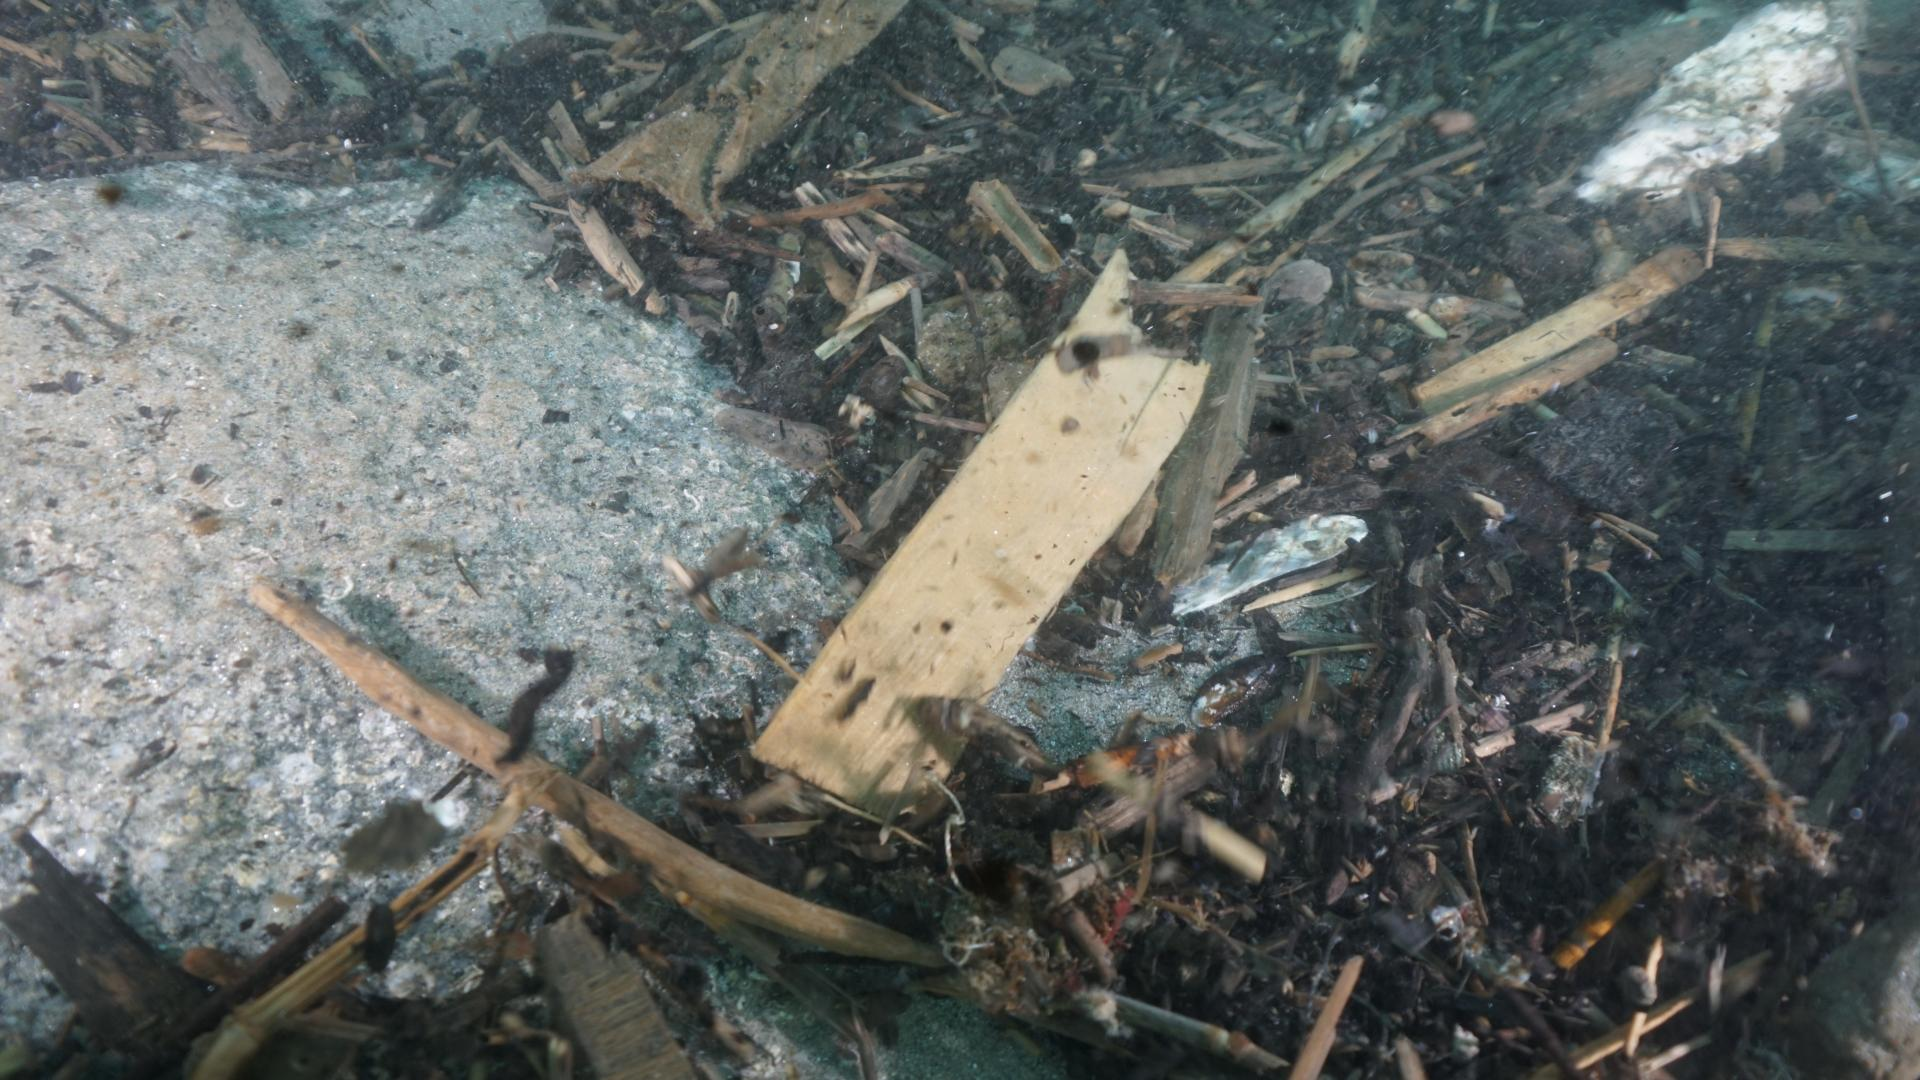wood: (746, 244, 1208, 820)
